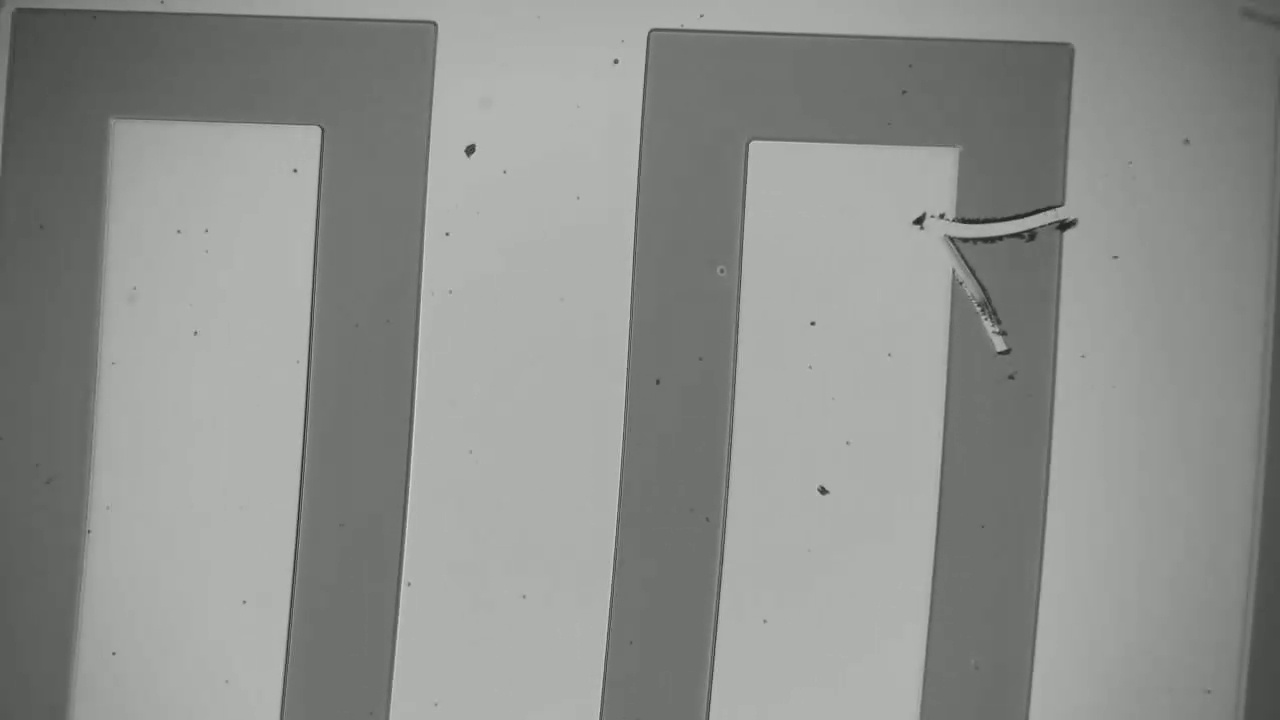Short_circuit: (910, 188, 1087, 267)
